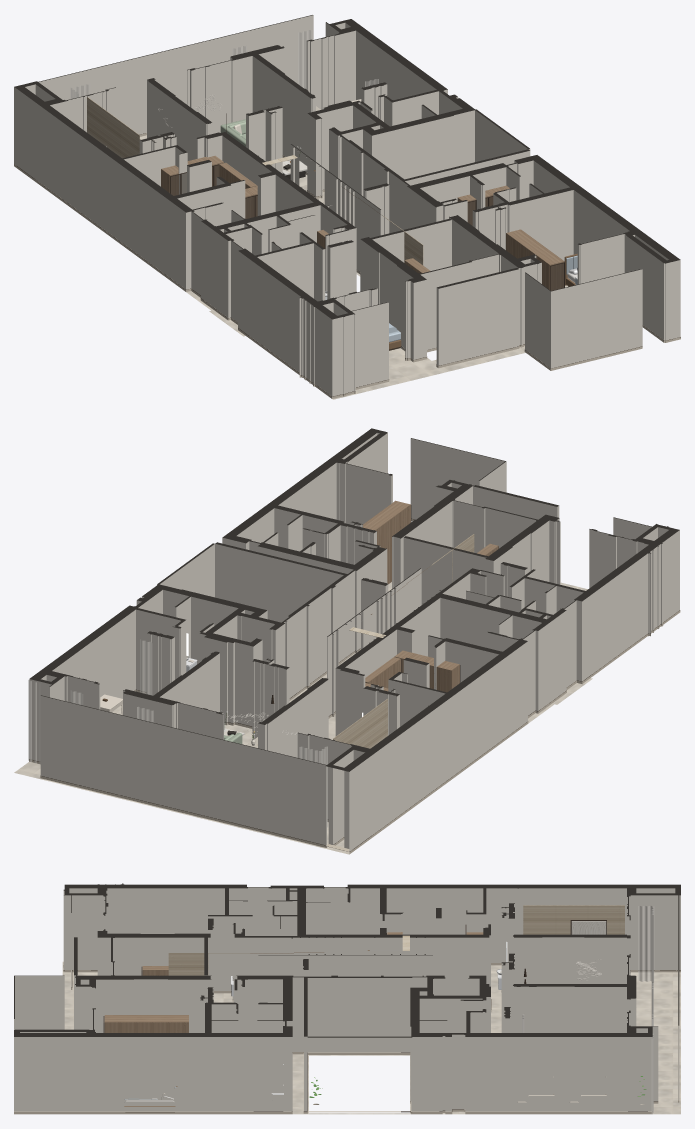
Rendered from ff_house_v4.glb.
3 renders of one model, top to bottom at view 1: azimuth 30°, elevation 25°; view 2: azimuth 150°, elevation 25°; view 3: azimuth 270°, elevation 25°, orthographic. The views are drawn at different scales.
Visible parts, largest first — view 1: MeshStandardMaterial_14, MeshStandardMaterial_15, MeshStandardMaterial_7, MeshStandardMaterial_1, MeshStandardMaterial_5, MeshStandardMaterial_16, MeshStandardMaterial_87, MeshStandardMaterial_104; view 2: MeshStandardMaterial_14, MeshStandardMaterial_15, MeshStandardMaterial_7, MeshStandardMaterial_16, MeshStandardMaterial_104, MeshStandardMaterial_1, MeshStandardMaterial_5; view 3: MeshStandardMaterial_14, MeshStandardMaterial_15, MeshStandardMaterial_1, MeshStandardMaterial_5, MeshStandardMaterial_16, MeshStandardMaterial_7, MeshStandardMaterial_104, MeshStandardMaterial_91.
Boxes of the visible parts, x1,y1,x2,y2 form: MeshStandardMaterial_14: [14, 15, 680, 396]; MeshStandardMaterial_15: [14, 15, 680, 319]; MeshStandardMaterial_7: [161, 155, 564, 290]; MeshStandardMaterial_1: [140, 135, 568, 399]; MeshStandardMaterial_5: [87, 97, 423, 265]; MeshStandardMaterial_16: [14, 133, 680, 398]; MeshStandardMaterial_87: [170, 165, 564, 290]; MeshStandardMaterial_104: [70, 30, 378, 98]; MeshStandardMaterial_14: [29, 432, 679, 853]; MeshStandardMaterial_15: [29, 428, 679, 771]; MeshStandardMaterial_7: [363, 500, 498, 692]; MeshStandardMaterial_16: [29, 518, 680, 853]; MeshStandardMaterial_104: [28, 639, 327, 827]; MeshStandardMaterial_1: [14, 582, 680, 854]; MeshStandardMaterial_5: [333, 534, 474, 748]; MeshStandardMaterial_14: [14, 887, 680, 1111]; MeshStandardMaterial_15: [14, 883, 680, 1037]; MeshStandardMaterial_1: [62, 961, 680, 1114]; MeshStandardMaterial_5: [168, 905, 624, 975]; MeshStandardMaterial_16: [14, 963, 680, 1114]; MeshStandardMaterial_7: [104, 932, 483, 1032]; MeshStandardMaterial_104: [522, 905, 654, 1113]; MeshStandardMaterial_91: [571, 921, 606, 934].
Size of the model in its own units: 12.9 by 3.02 by 23.57.
98 materials, 16 textured.
